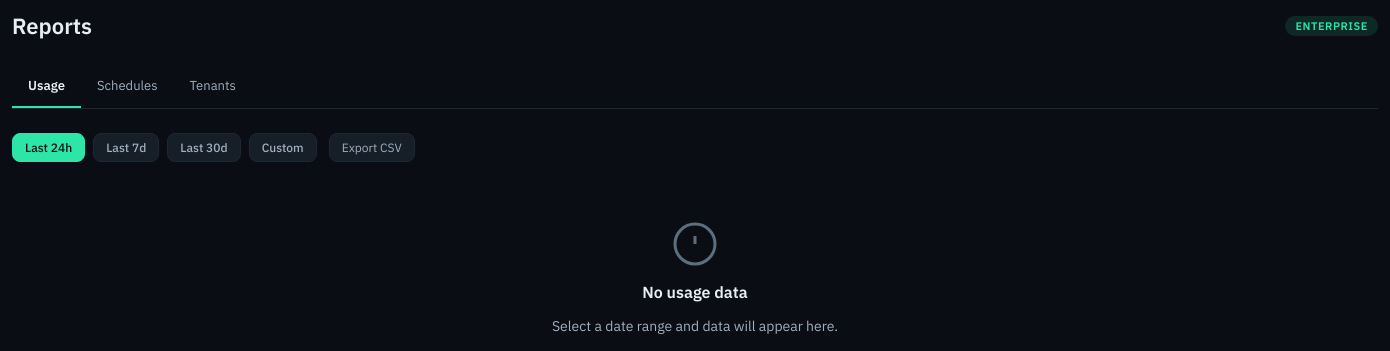
it: ReportsPage tenants tab › shows stream_pattern badge on tenant with pattern
The width and height of the screenshot is (1390, 351).
Click the tab "Tenants": {"x": 213, "y": 86} [174,64,252,108]
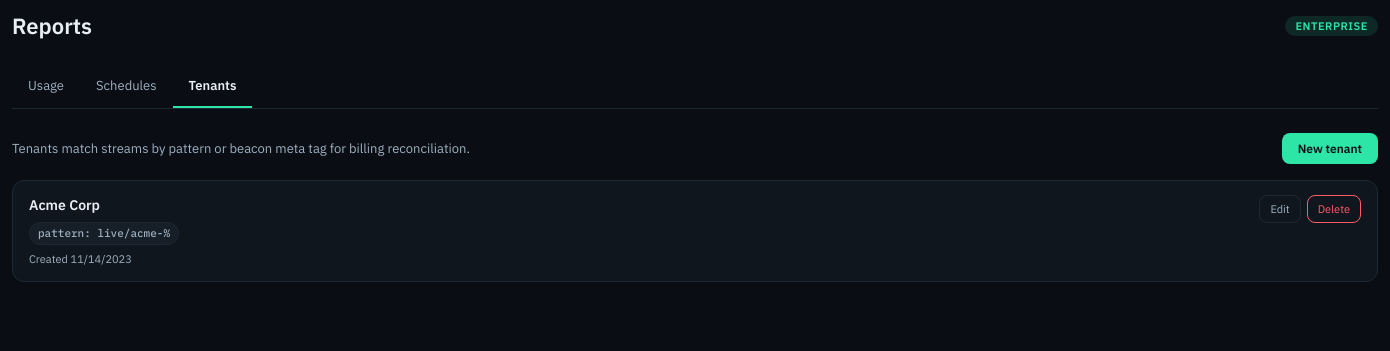
Check: the text "pattern: live/acme-%" is shown, box [29,222,179,244]
